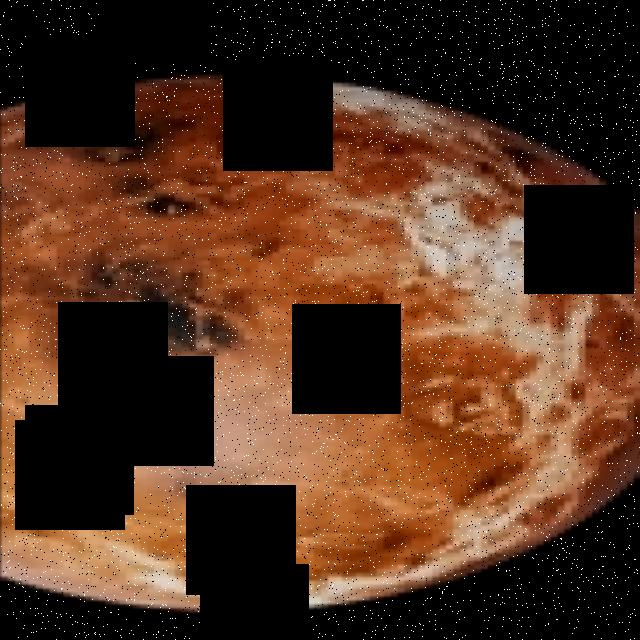Venus: (0, 71, 640, 612)
